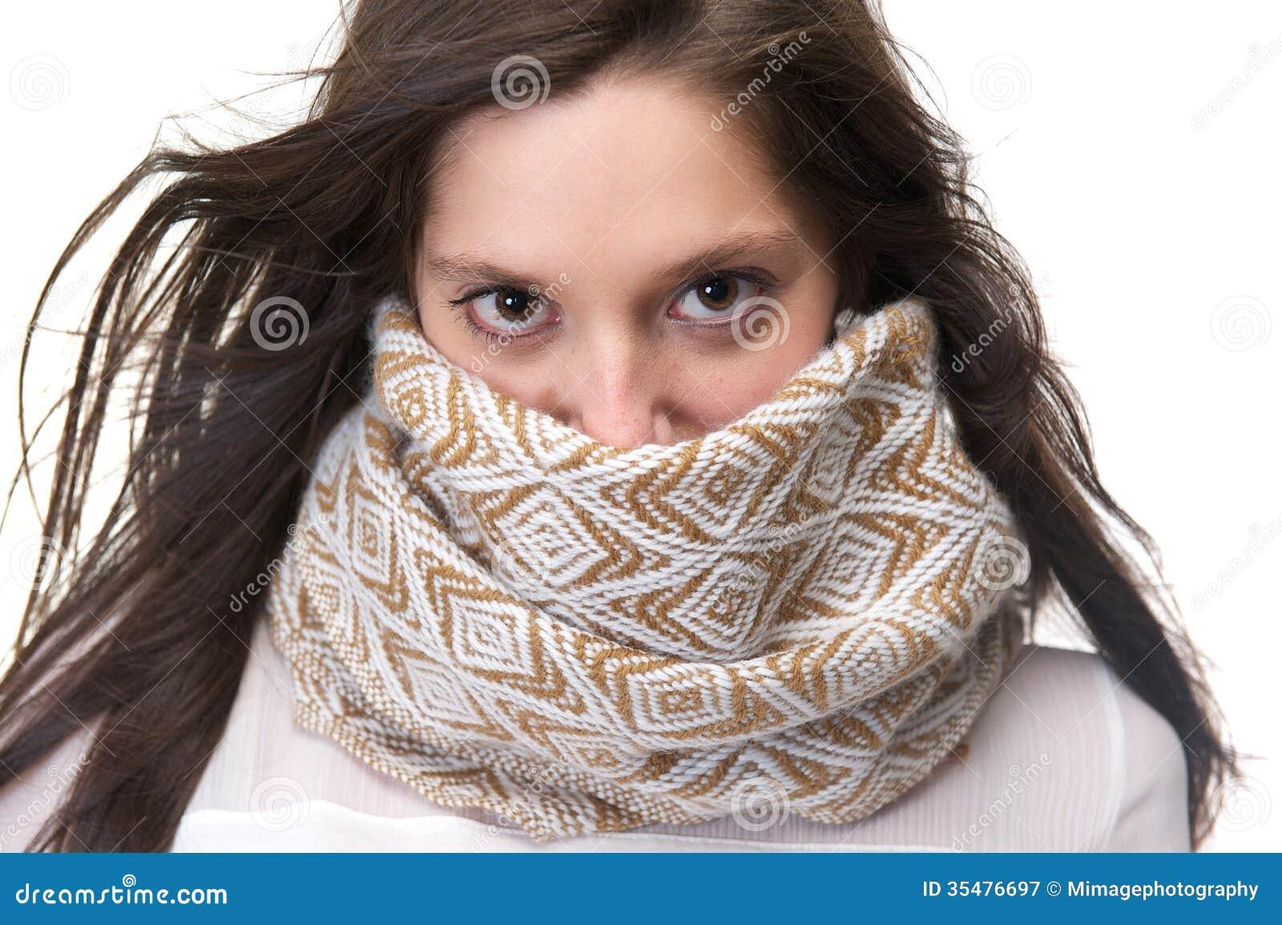scarf-kerchief: (288, 283, 1068, 847)
